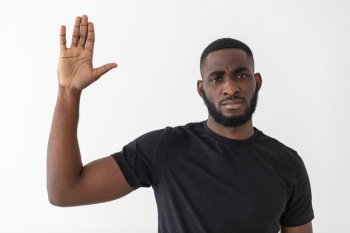hand: (56, 15, 118, 91)
